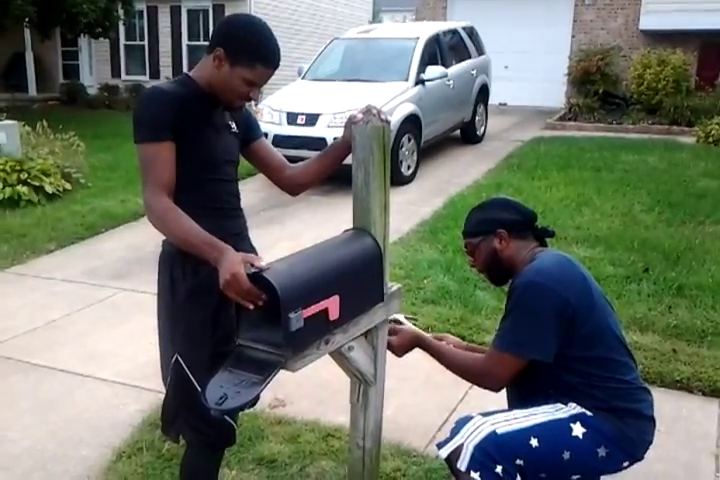person: (132, 13, 391, 480), (388, 197, 655, 479)
